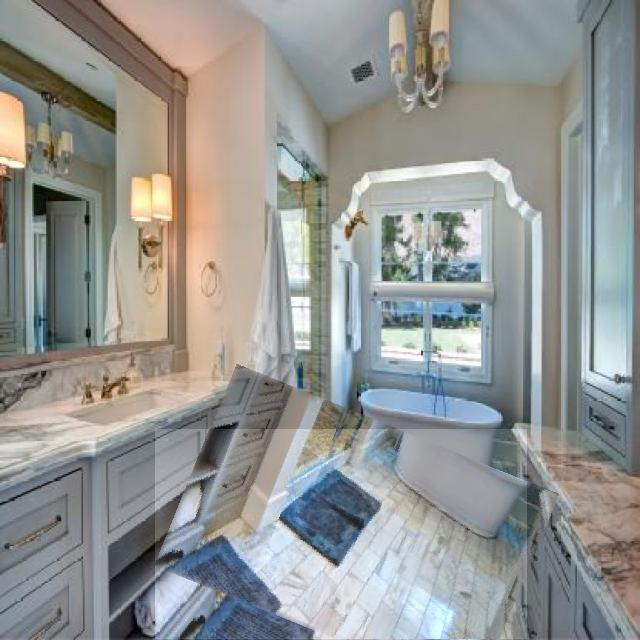floor: (156, 429, 527, 640)
